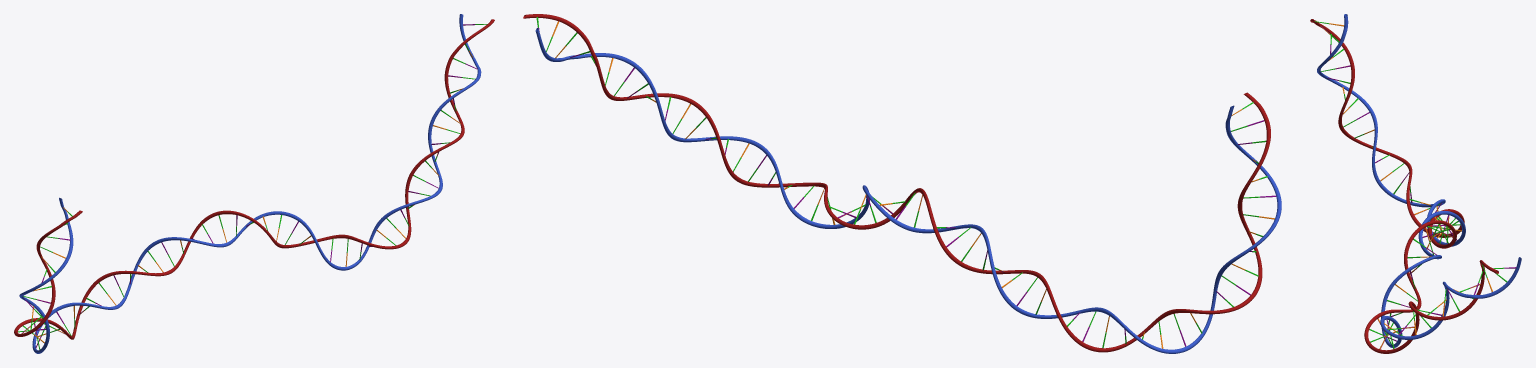
The model's file is dna_smoother_mesh.glb.
3 views of the same model, side by side, from view 1: azimuth 30°, elevation 25°; view 2: azimuth 150°, elevation 25°; view 3: azimuth 270°, elevation 25° (orthographic). The views are drawn at different scales.
Visible parts, largest first — view 1: Cylinder; view 2: Cylinder; view 3: Cylinder.
Boxes of the visible parts, x1,y1,x2,y2 form: Cylinder: (14, 14, 494, 353); Cylinder: (523, 14, 1281, 353); Cylinder: (1310, 14, 1521, 353).
Bounding box in the file's own units: 38.79 × 12.88 × 12.42.
